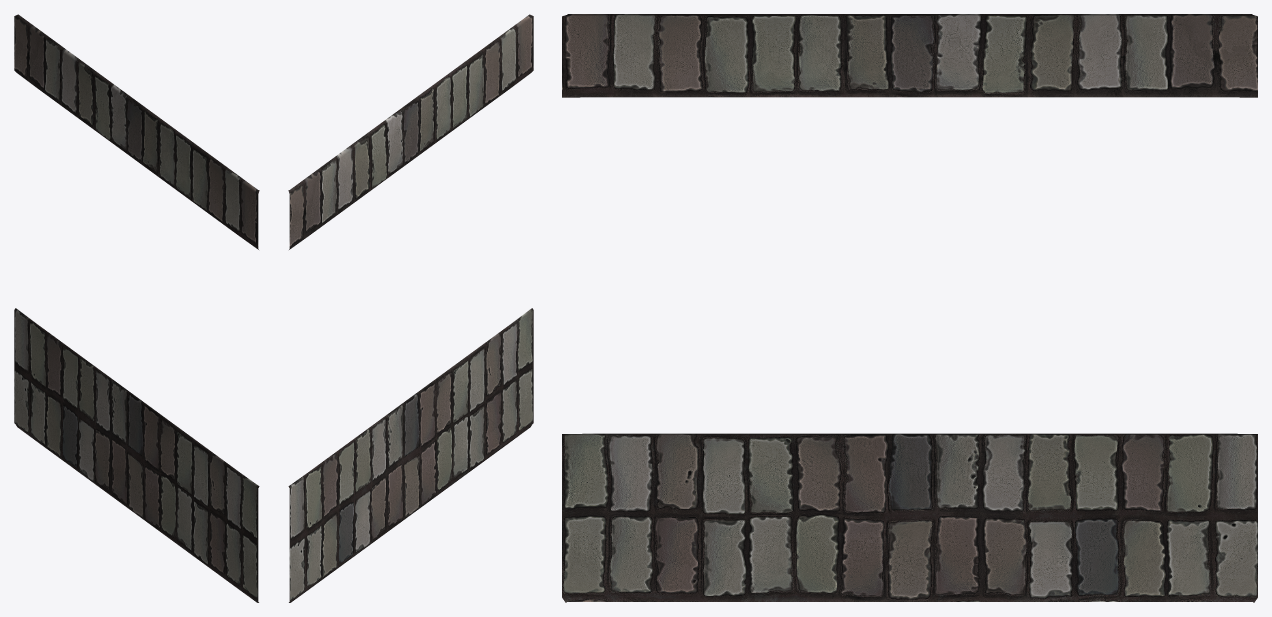
File: SM_Balcony_Decor_LineFront.fbx
The picture shows the model from 3 angles, left to right: view 1: azimuth 30°, elevation 25°; view 2: azimuth 150°, elevation 25°; view 3: azimuth 270°, elevation 25°; orthographic projection. The views are drawn at different scales.
Visible parts, largest first — view 1: SM_Balcony_Decor_LineFront_LOD0; view 2: SM_Balcony_Decor_LineFront_LOD0; view 3: SM_Balcony_Decor_LineFront_LOD0.
Part boxes in pixels (<box>): SM_Balcony_Decor_LineFront_LOD0: <box>14,14,259,602</box>; SM_Balcony_Decor_LineFront_LOD0: <box>288,14,533,602</box>; SM_Balcony_Decor_LineFront_LOD0: <box>562,14,1257,602</box>.
Bounding box in the file's own units: 2.66 × 300 × 280.
